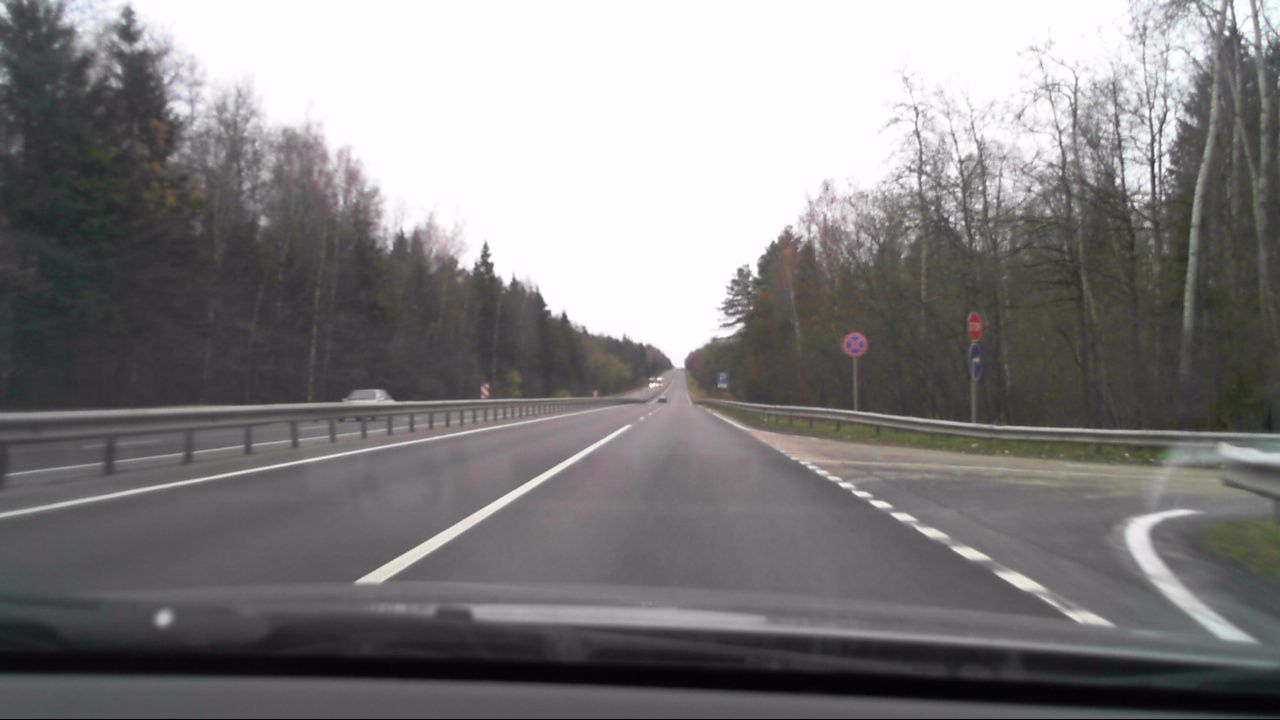No Parking: (841, 332, 867, 359)
